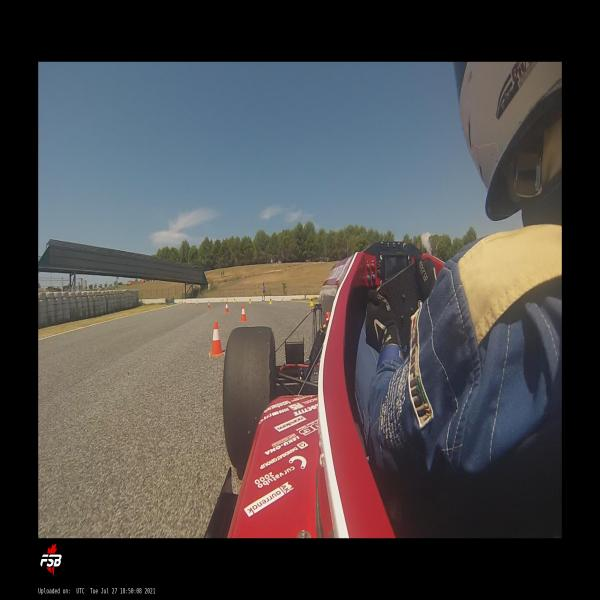orange_cone: (210, 321, 224, 356), (240, 304, 247, 322), (225, 301, 229, 313), (207, 301, 211, 310), (196, 300, 198, 306), (190, 299, 192, 305)
yellow_cone: (309, 297, 314, 306), (248, 298, 252, 304), (269, 297, 272, 305), (234, 297, 235, 303)
